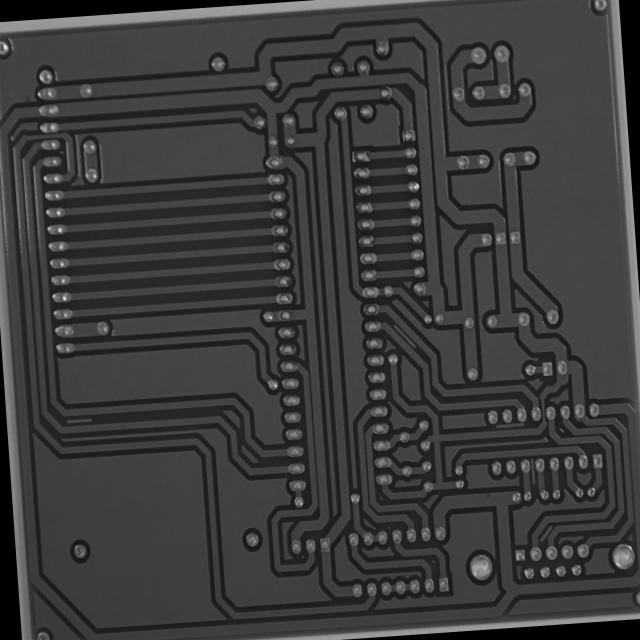spurious_copper: (388, 320, 418, 352), (534, 520, 558, 544), (492, 417, 526, 432), (526, 454, 541, 486), (63, 415, 94, 426)
